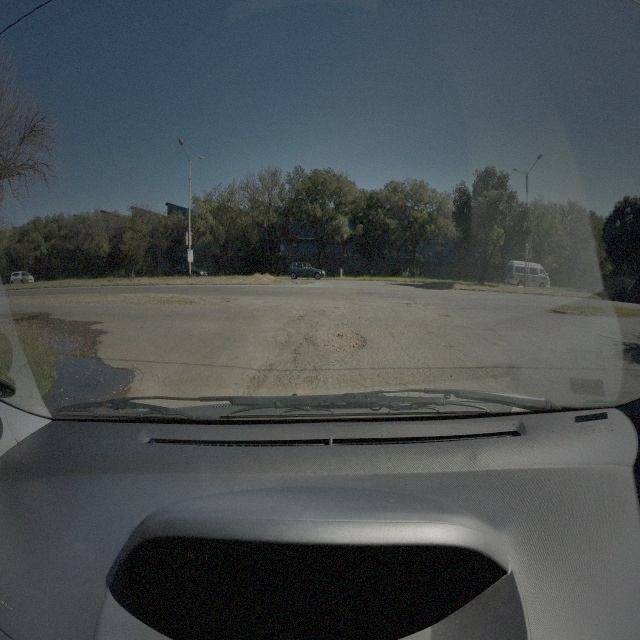pothole: (315, 328, 368, 352), (205, 296, 229, 308), (307, 306, 325, 318), (396, 299, 411, 307), (440, 312, 450, 318)
